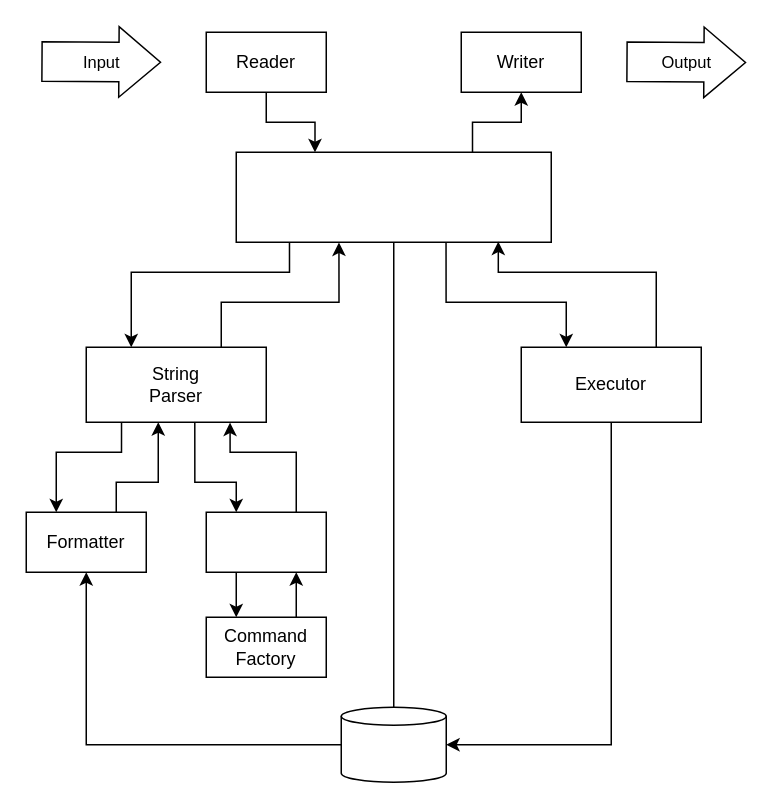
Image size: 773x809. Some labels were removed from this diagram. The centre of each missing label's shape, as x and y in pixels:
"Main App" belongs at (x=393, y=196).
"Memory" belongs at (x=393, y=744).
"Parser" belongs at (x=265, y=541).
